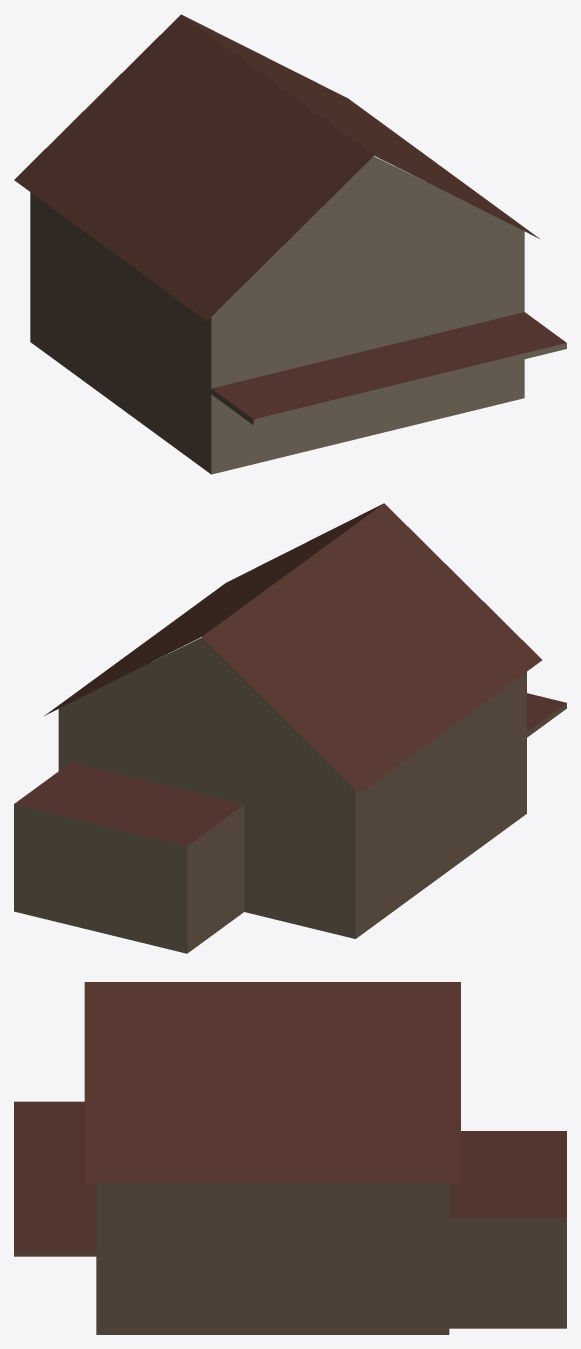
Rendered from rw-mercantile.far-facades-v3.lod2.glb.
3 renders of one model, top to bottom at view 1: azimuth 30°, elevation 25°; view 2: azimuth 150°, elevation 25°; view 3: azimuth 270°, elevation 25°, orthographic. The views are drawn at different scales.
Visible parts, largest first — view 1: rw-mercantile; view 2: rw-mercantile; view 3: rw-mercantile.
Part boxes in pixels (box(x1,y1,x2,y2)): rw-mercantile: box(14, 14, 566, 474); rw-mercantile: box(14, 503, 566, 953); rw-mercantile: box(14, 982, 566, 1334).
Bounding box in the file's own units: 12.8 × 10.43 × 18.8.
